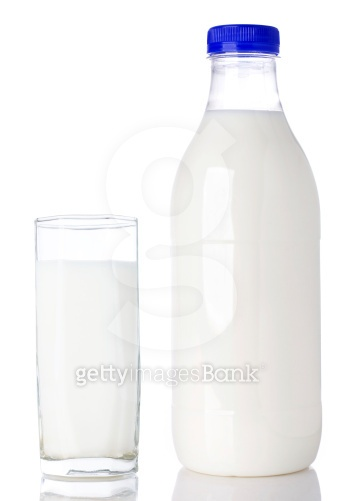glass of milk: (166, 13, 329, 482), (33, 207, 153, 488)
